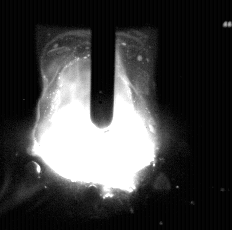arame: (91, 0, 118, 130)
poca: (31, 0, 157, 230)
